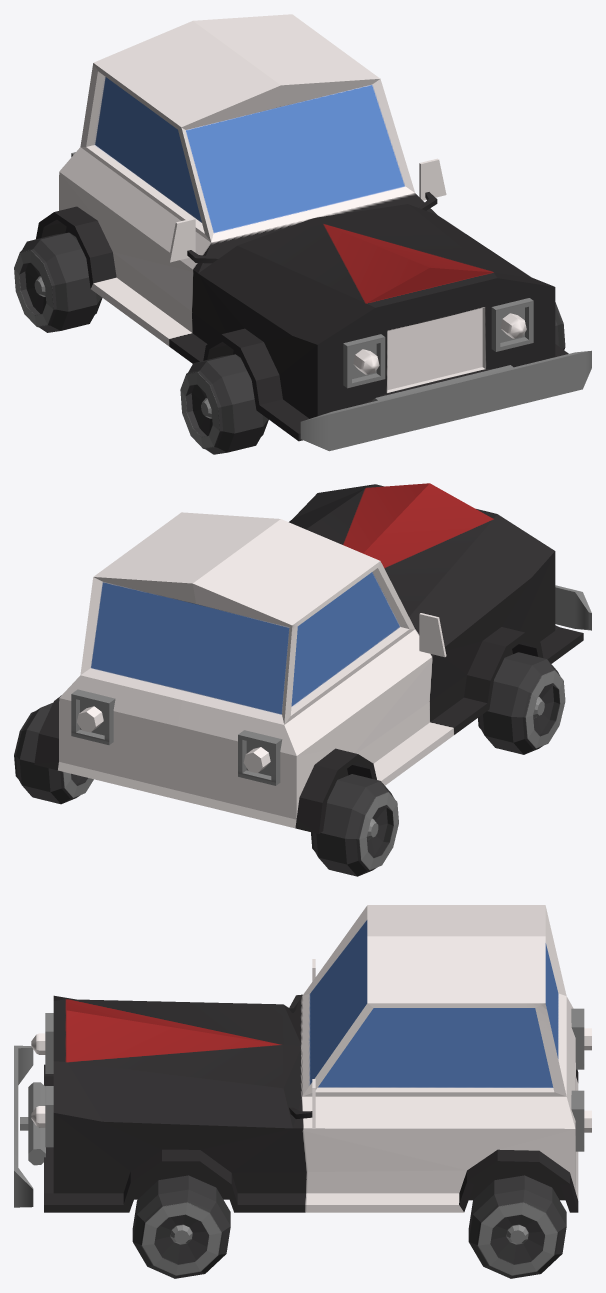
Rendered from car10a.fbx.
The picture shows the model from 3 angles, top to bottom: view 1: azimuth 30°, elevation 25°; view 2: azimuth 150°, elevation 25°; view 3: azimuth 270°, elevation 25°; orthographic projection.
Parts seen in each view (by area): view 1: car10a_body, car10a_wheel_rear_RGH, car10a_wheel_front_RGH; view 2: car10a_body, car10a_wheel_rear_RGH, car10a_wheel_front_RGH, car10a_wheel_rear_LEF, car10a_lights_rear_RGH, car10a_lights_rear_LEF; view 3: car10a_body, car10a_wheel_front_LEF, car10a_wheel_rear_LEF.
Part boxes in pixels (x1,y1,x2,y2): car10a_body: (36, 14, 591, 451); car10a_wheel_rear_RGH: (14, 232, 102, 332); car10a_wheel_front_RGH: (180, 354, 268, 454); car10a_body: (34, 483, 591, 833); car10a_wheel_rear_RGH: (311, 774, 398, 876); car10a_wheel_front_RGH: (478, 652, 565, 754); car10a_wheel_rear_LEF: (14, 703, 93, 804); car10a_lights_rear_RGH: (243, 747, 270, 773); car10a_lights_rear_LEF: (77, 706, 103, 732); car10a_body: (14, 905, 584, 1212); car10a_wheel_front_LEF: (132, 1175, 230, 1278); car10a_wheel_rear_LEF: (468, 1175, 566, 1278).
Size of the model in its own units: 3.32 by 2.38 by 4.74.
1 material, 1 textured.
